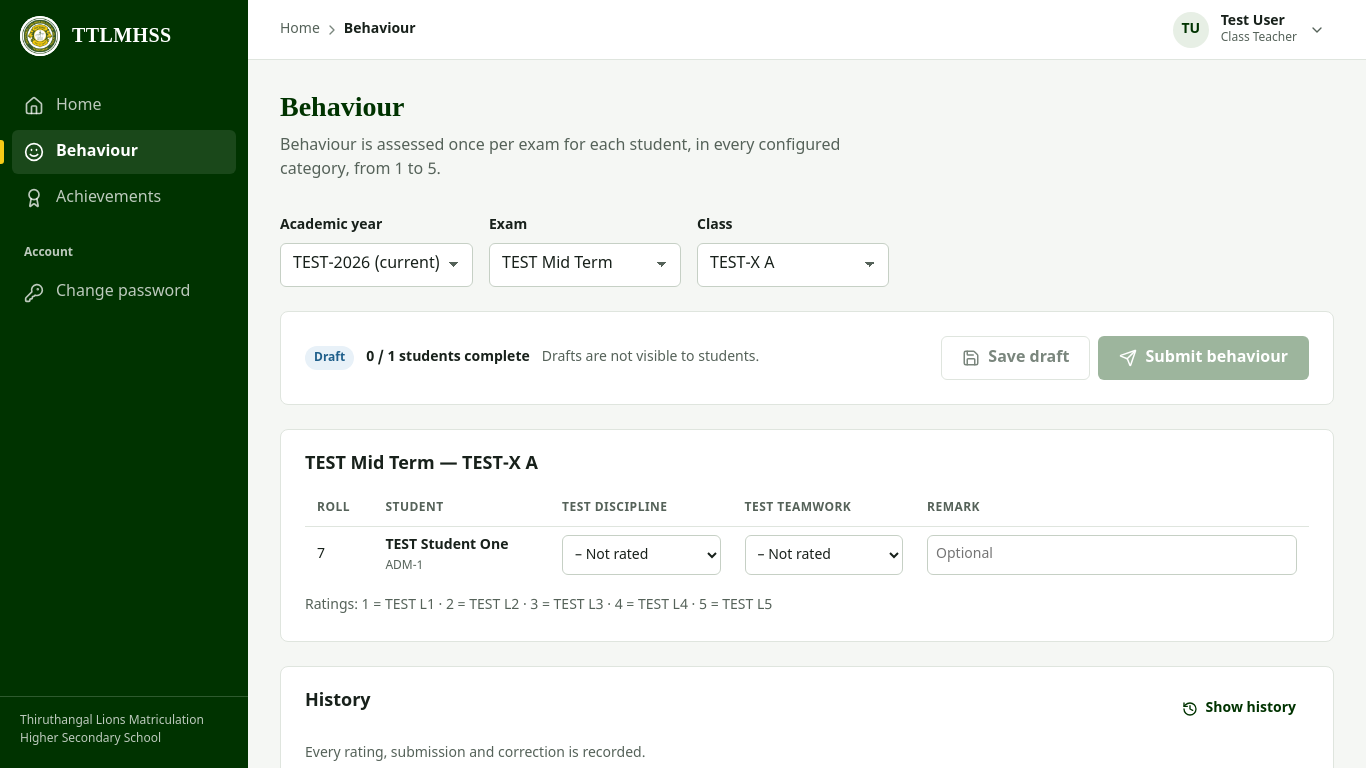
behaviour sheet (class teacher) › columns come from the configured categories; save sends ratings; submit asks first
expect the column headings read "Roll", "Student", "TEST Discipline", "TEST Teamwork", "Remark", in this order: met, box [305,492,373,527]; [373,492,550,527]; [550,492,732,527]; [732,492,915,527]; [915,492,1309,527]
expect the button "Submit behaviour" is disabled: met, box [1098,336,1309,380]
Select "4 — TEST L4" in the dropdown named "TEST Discipline for TEST Student One": (641, 555) [562,535,720,575]
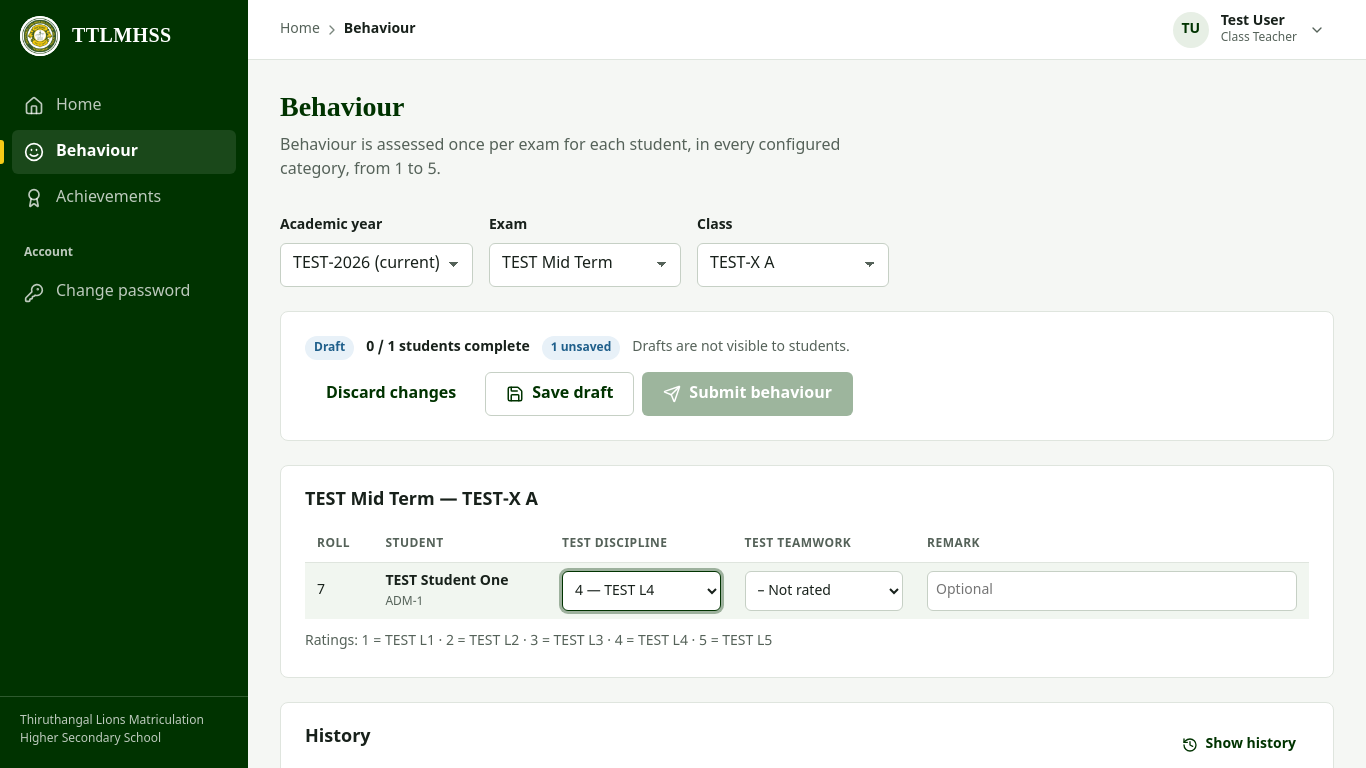
Select "5 — TEST L5" in the dropdown named "TEST Teamwork for TEST Student One": (824, 591) [744,571,903,611]
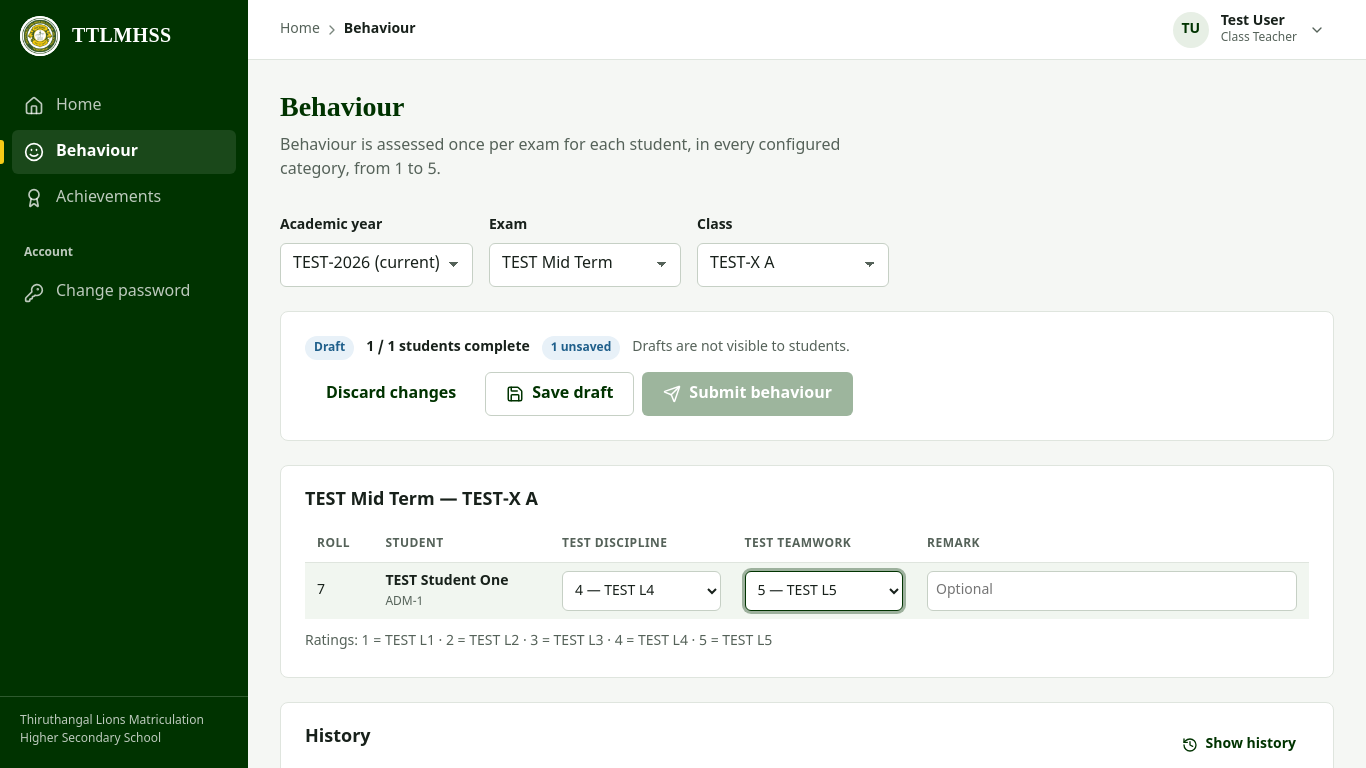
In the field named "Remark for TEST Student One": (1112, 591) [927,571,1297,611], type "Kind"
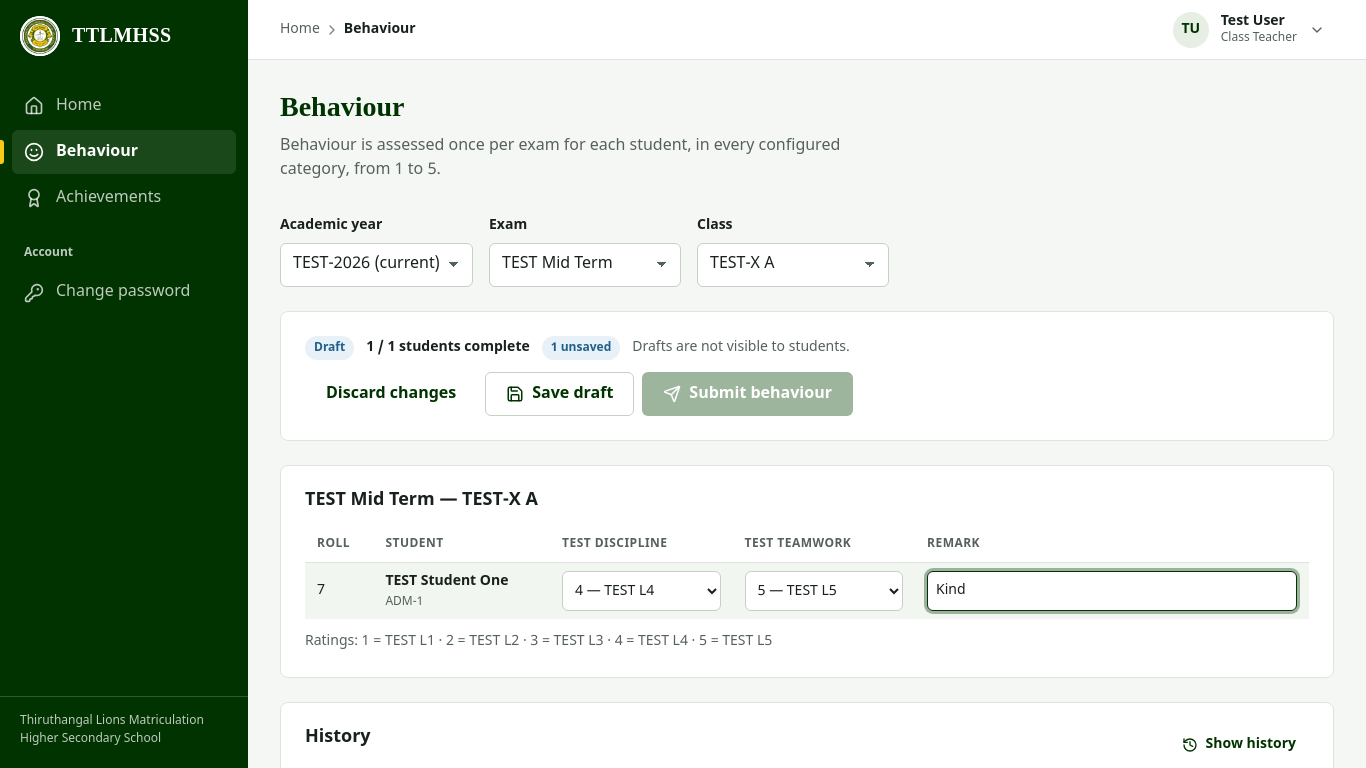
Click the button "Save draft": (560, 394) [485,372,634,416]
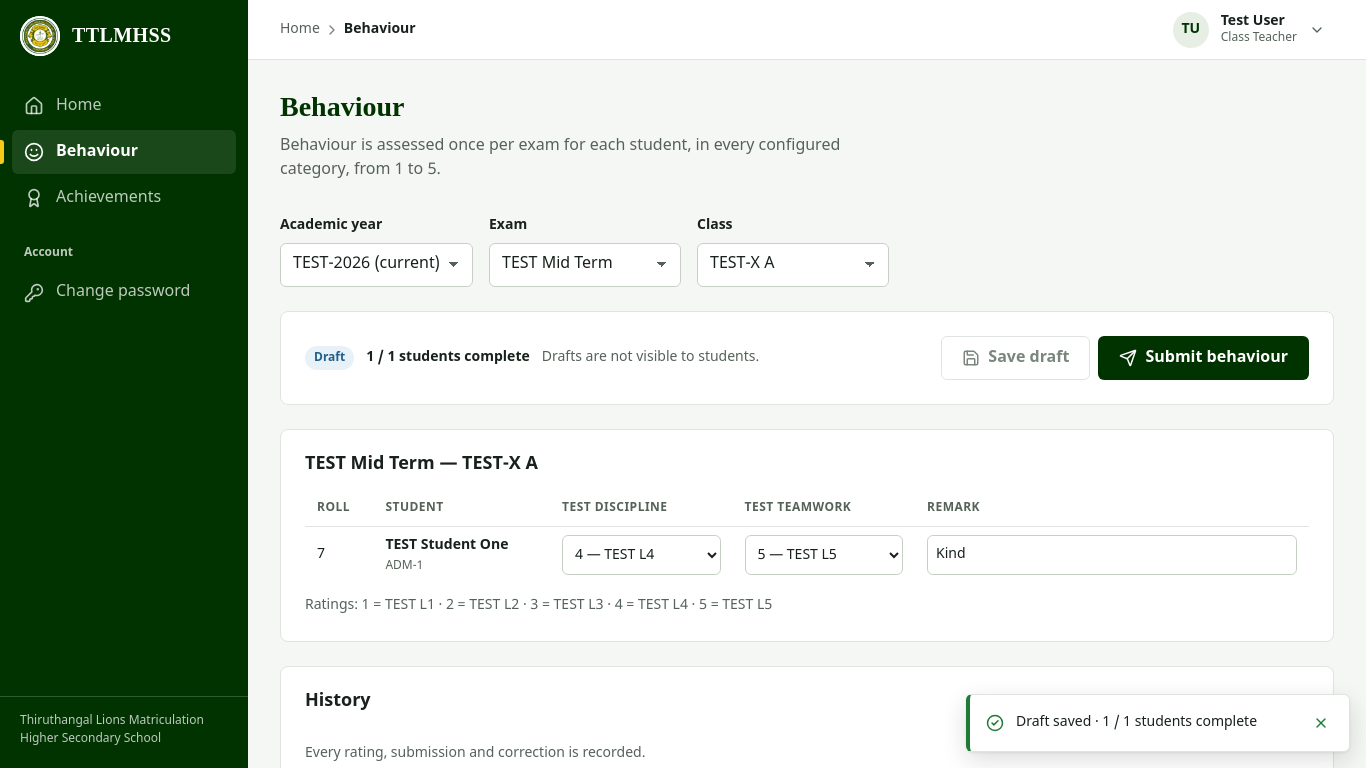
Click the button "Submit behaviour": (1204, 358) [1098,336,1309,380]
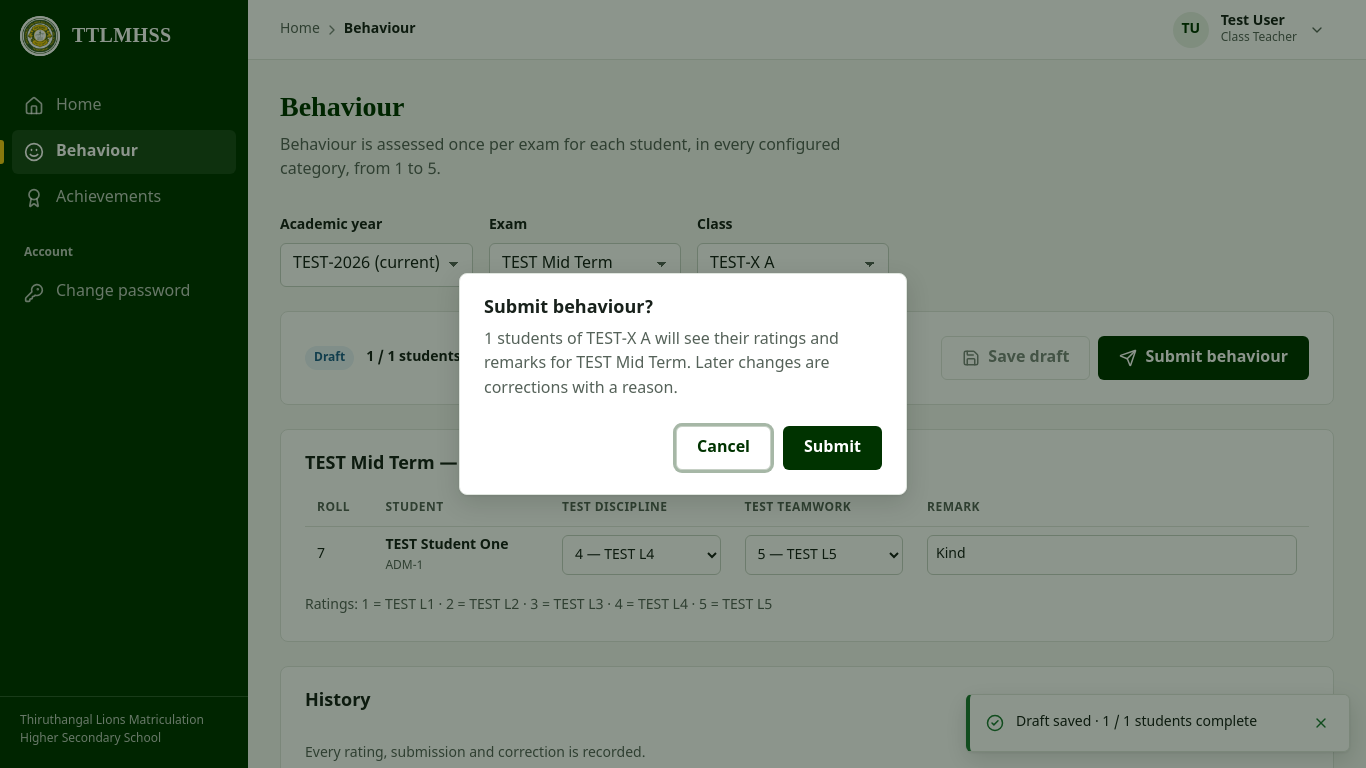
Click the button "Submit": (832, 448) [783,426,882,470]
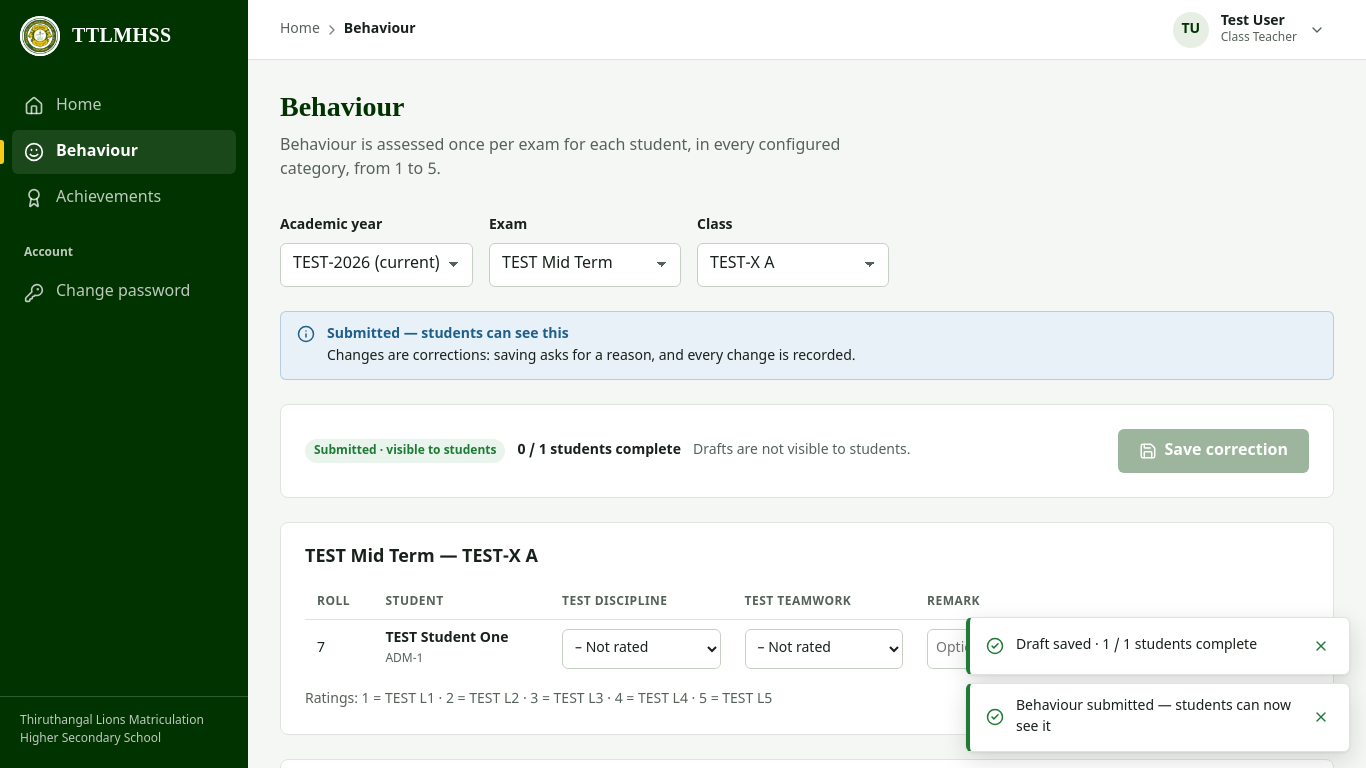
expect the text "Submitted · visible to students" is shown: met, box [305,439,505,463]
